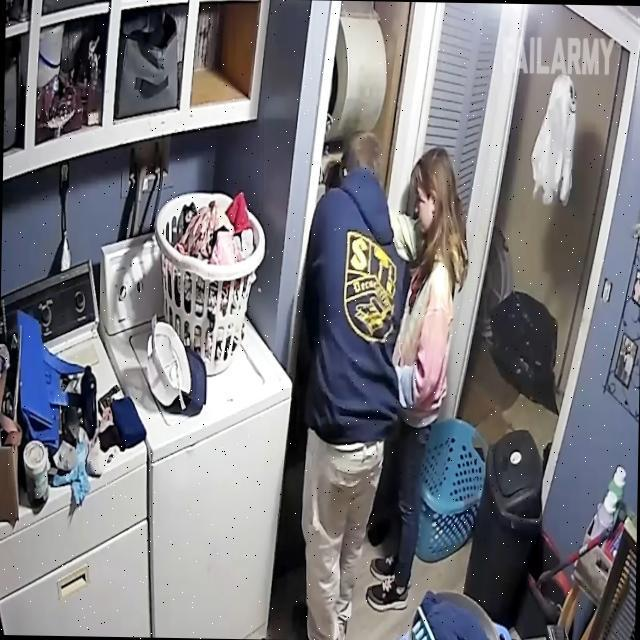person: (292, 131, 404, 640), (366, 149, 466, 611)
